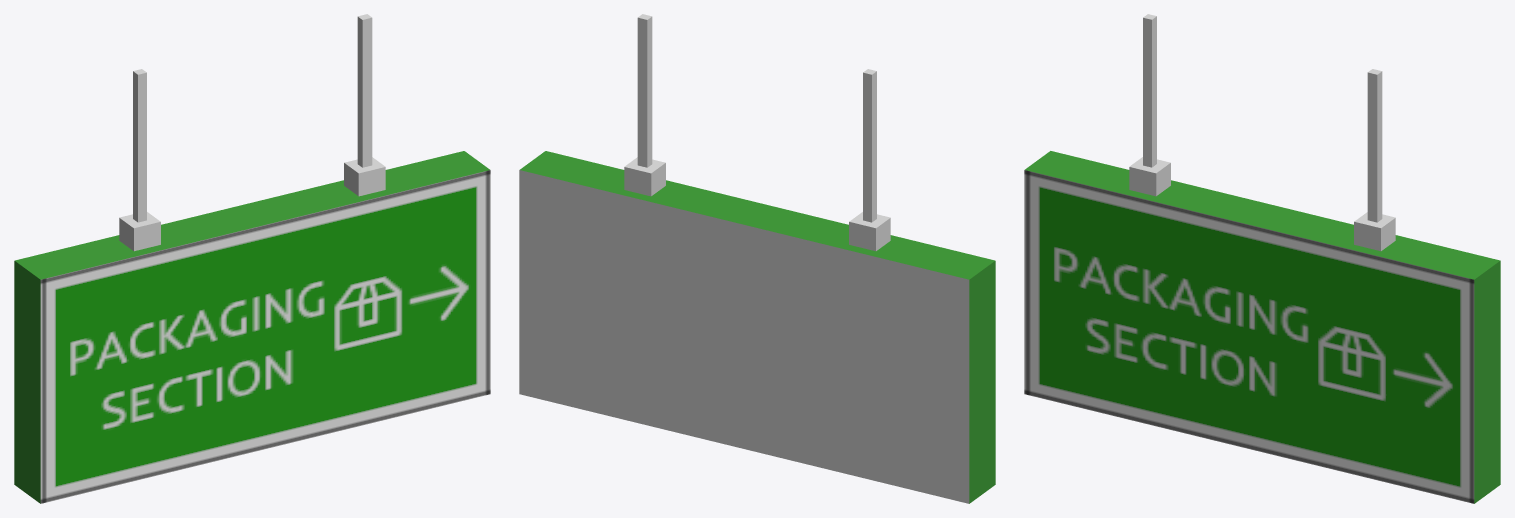
The model's file is SFPackeg.fbx.
The picture shows the model from 3 angles, left to right: view 1: azimuth 30°, elevation 25°; view 2: azimuth 150°, elevation 25°; view 3: azimuth 330°, elevation 25°; orthographic projection.
Visible parts, largest first — view 1: Cube.001; view 2: Cube.001; view 3: Cube.001.
Part boxes in pixels (x1=…): Cube.001: x1=14, y1=14, x2=490, y2=503; Cube.001: x1=519, y1=14, x2=995, y2=503; Cube.001: x1=1024, y1=14, x2=1500, y2=503.
Bounding box in the file's own units: 368 × 309 × 37.05.
